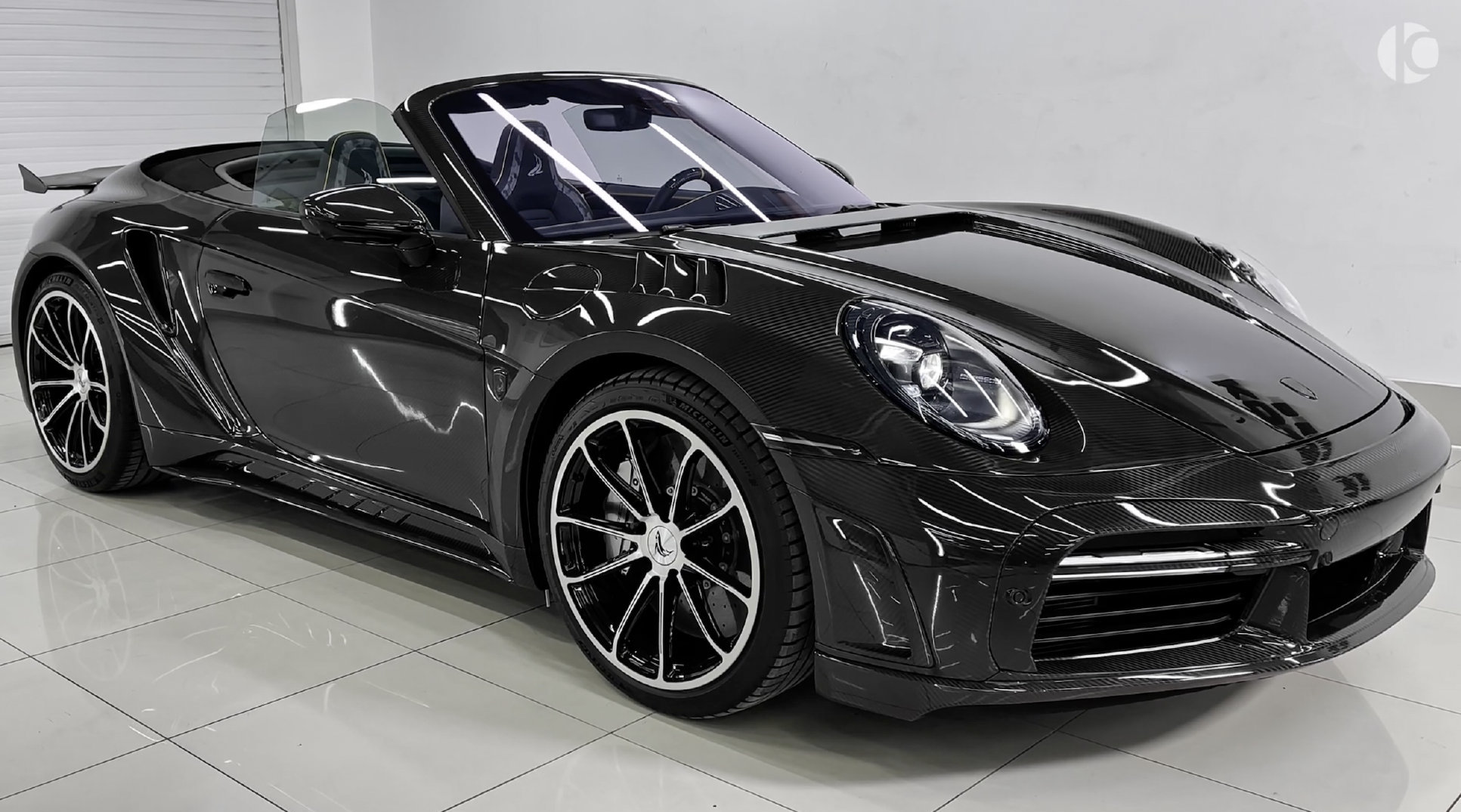other: (22, 79, 1451, 737)
